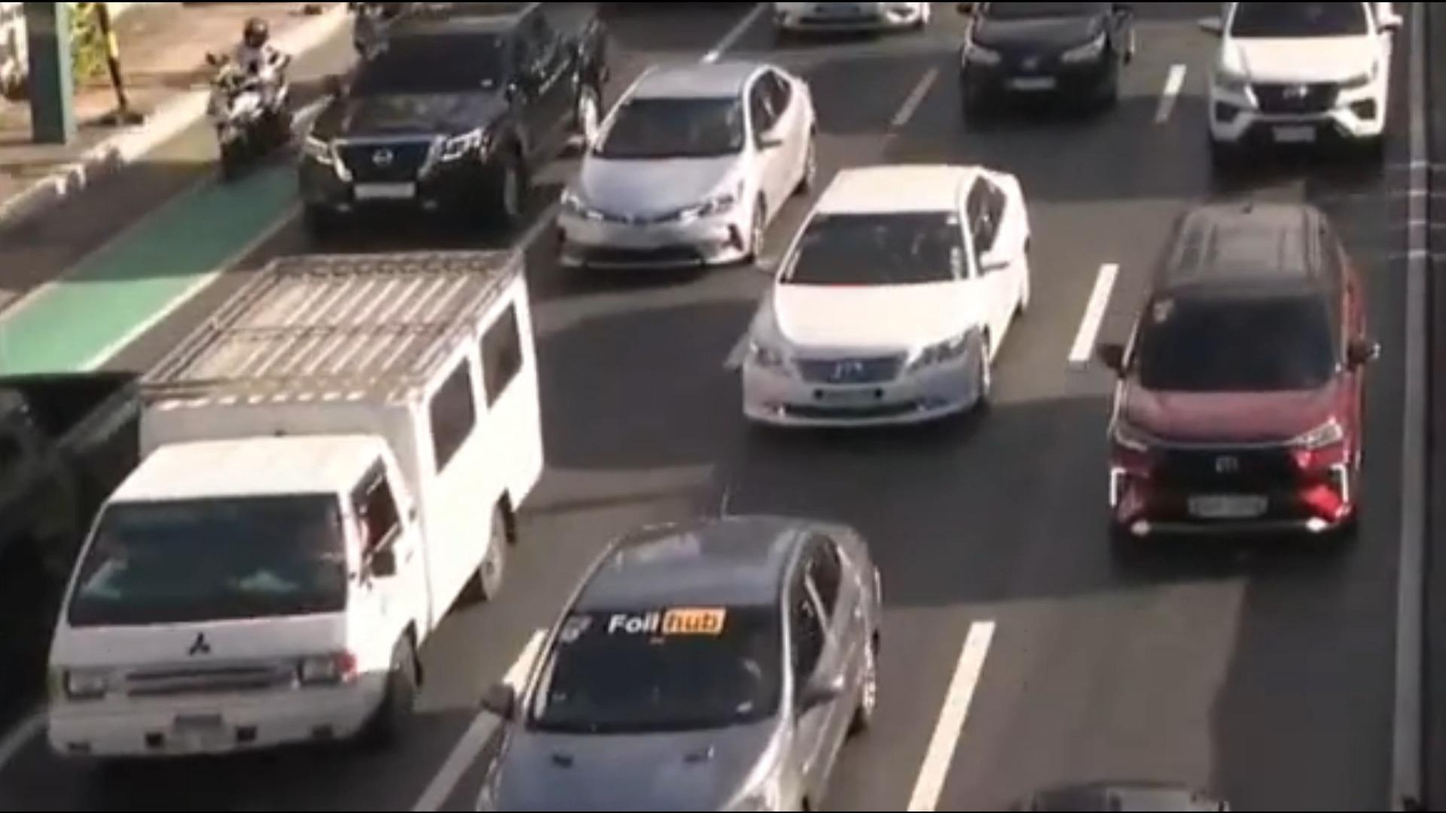Motorcycle: (194, 3, 304, 187)
Multicab: (13, 230, 567, 759)
Pickup: (293, 4, 639, 267)
SUV: (1072, 181, 1439, 587)
Sedan: (444, 486, 955, 813), (727, 155, 1089, 455), (560, 29, 831, 285)
